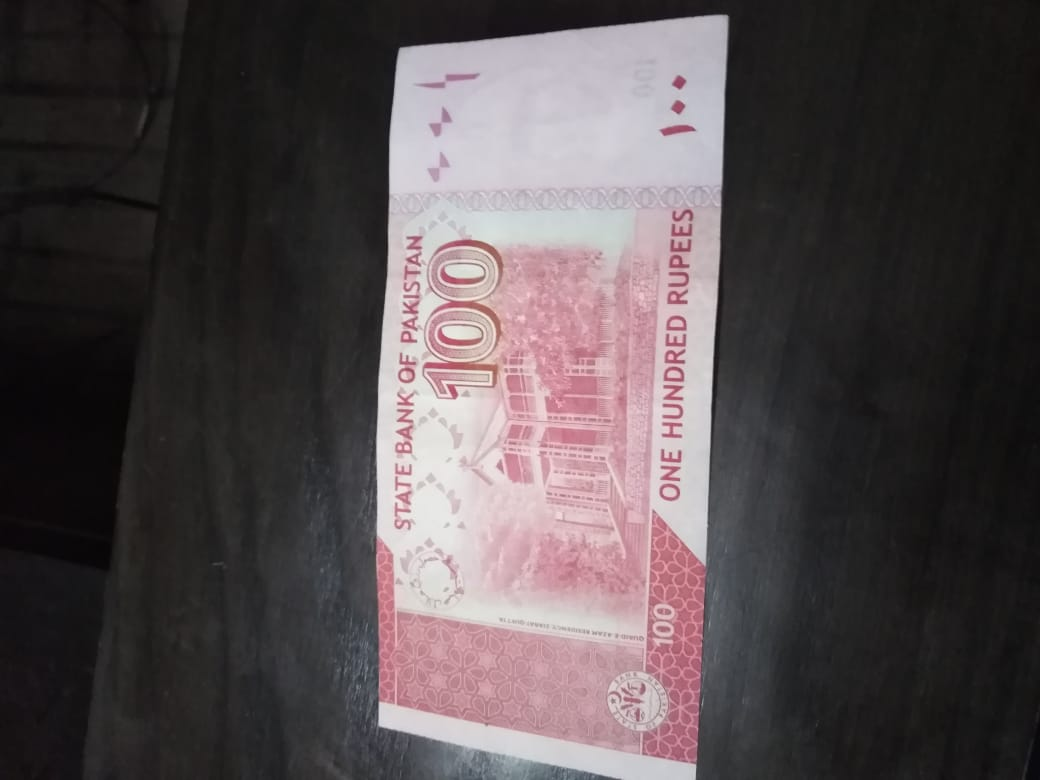100 rupee: (374, 15, 737, 780)
